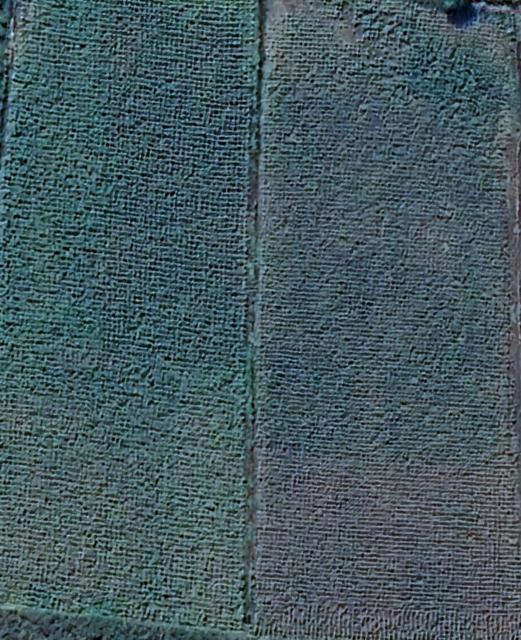Farms: (251, 2, 521, 640), (4, 2, 259, 631)
